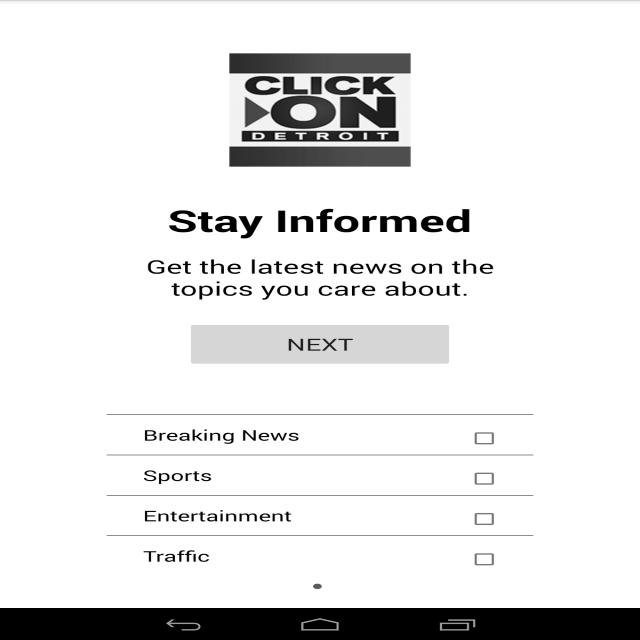Button: (187, 321, 453, 368)
CheckBox: (468, 422, 534, 455), (468, 462, 534, 495), (468, 543, 534, 576), (468, 503, 534, 535)
ImageView: (229, 53, 411, 167), (313, 581, 327, 592)
TextView: (107, 254, 533, 301), (168, 200, 472, 240), (127, 415, 316, 455), (127, 496, 308, 535), (127, 455, 228, 495), (127, 536, 226, 576), (0, 565, 640, 566)
